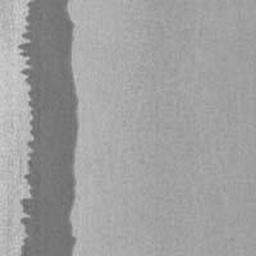Water spot: (17, 0, 81, 256)
